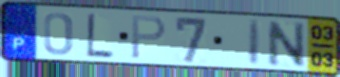0: (42, 11, 76, 56)
7: (174, 14, 210, 64)
I: (247, 18, 263, 67)
L: (85, 12, 115, 60)
N: (265, 19, 307, 68)
P: (130, 15, 168, 61)
